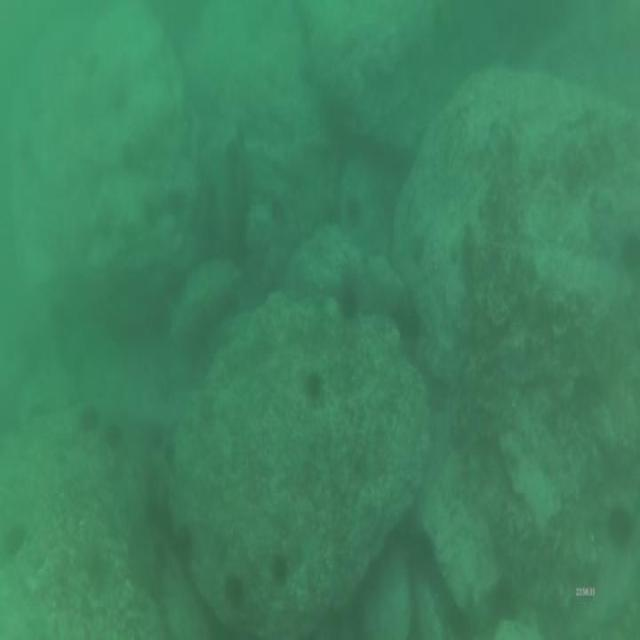echinus: (395, 297, 424, 345), (609, 506, 630, 540), (221, 577, 241, 607), (338, 291, 359, 319), (82, 403, 96, 430), (270, 558, 286, 581), (307, 371, 320, 395), (107, 428, 121, 446)
